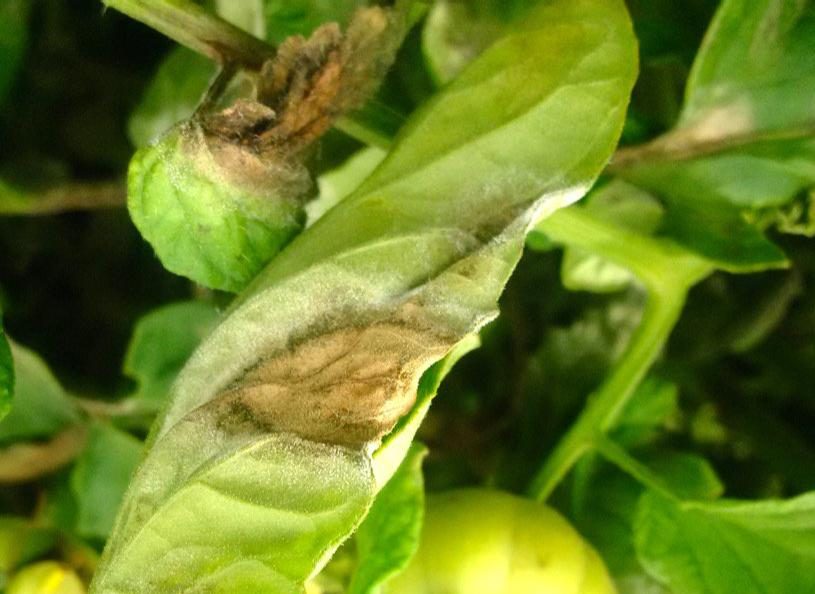Tomato leaf late blight: (0, 0, 667, 594), (111, 0, 433, 294)
